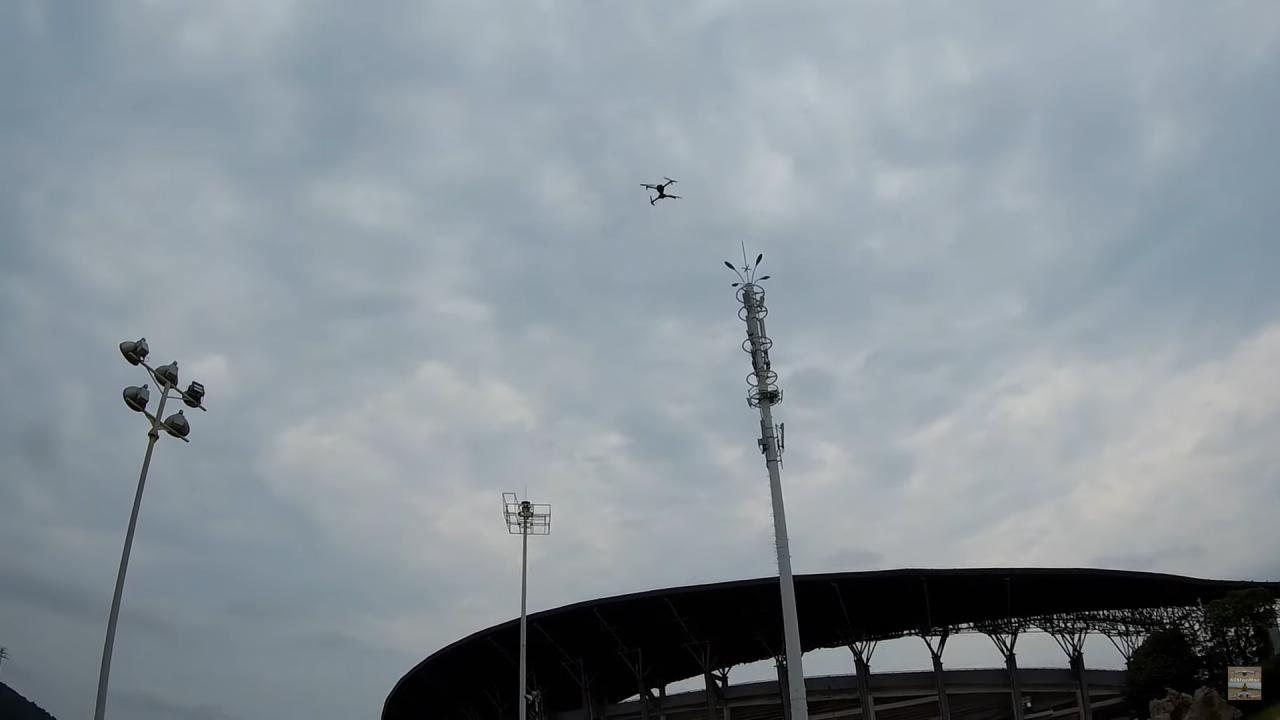Drone: (632, 172, 688, 211)
